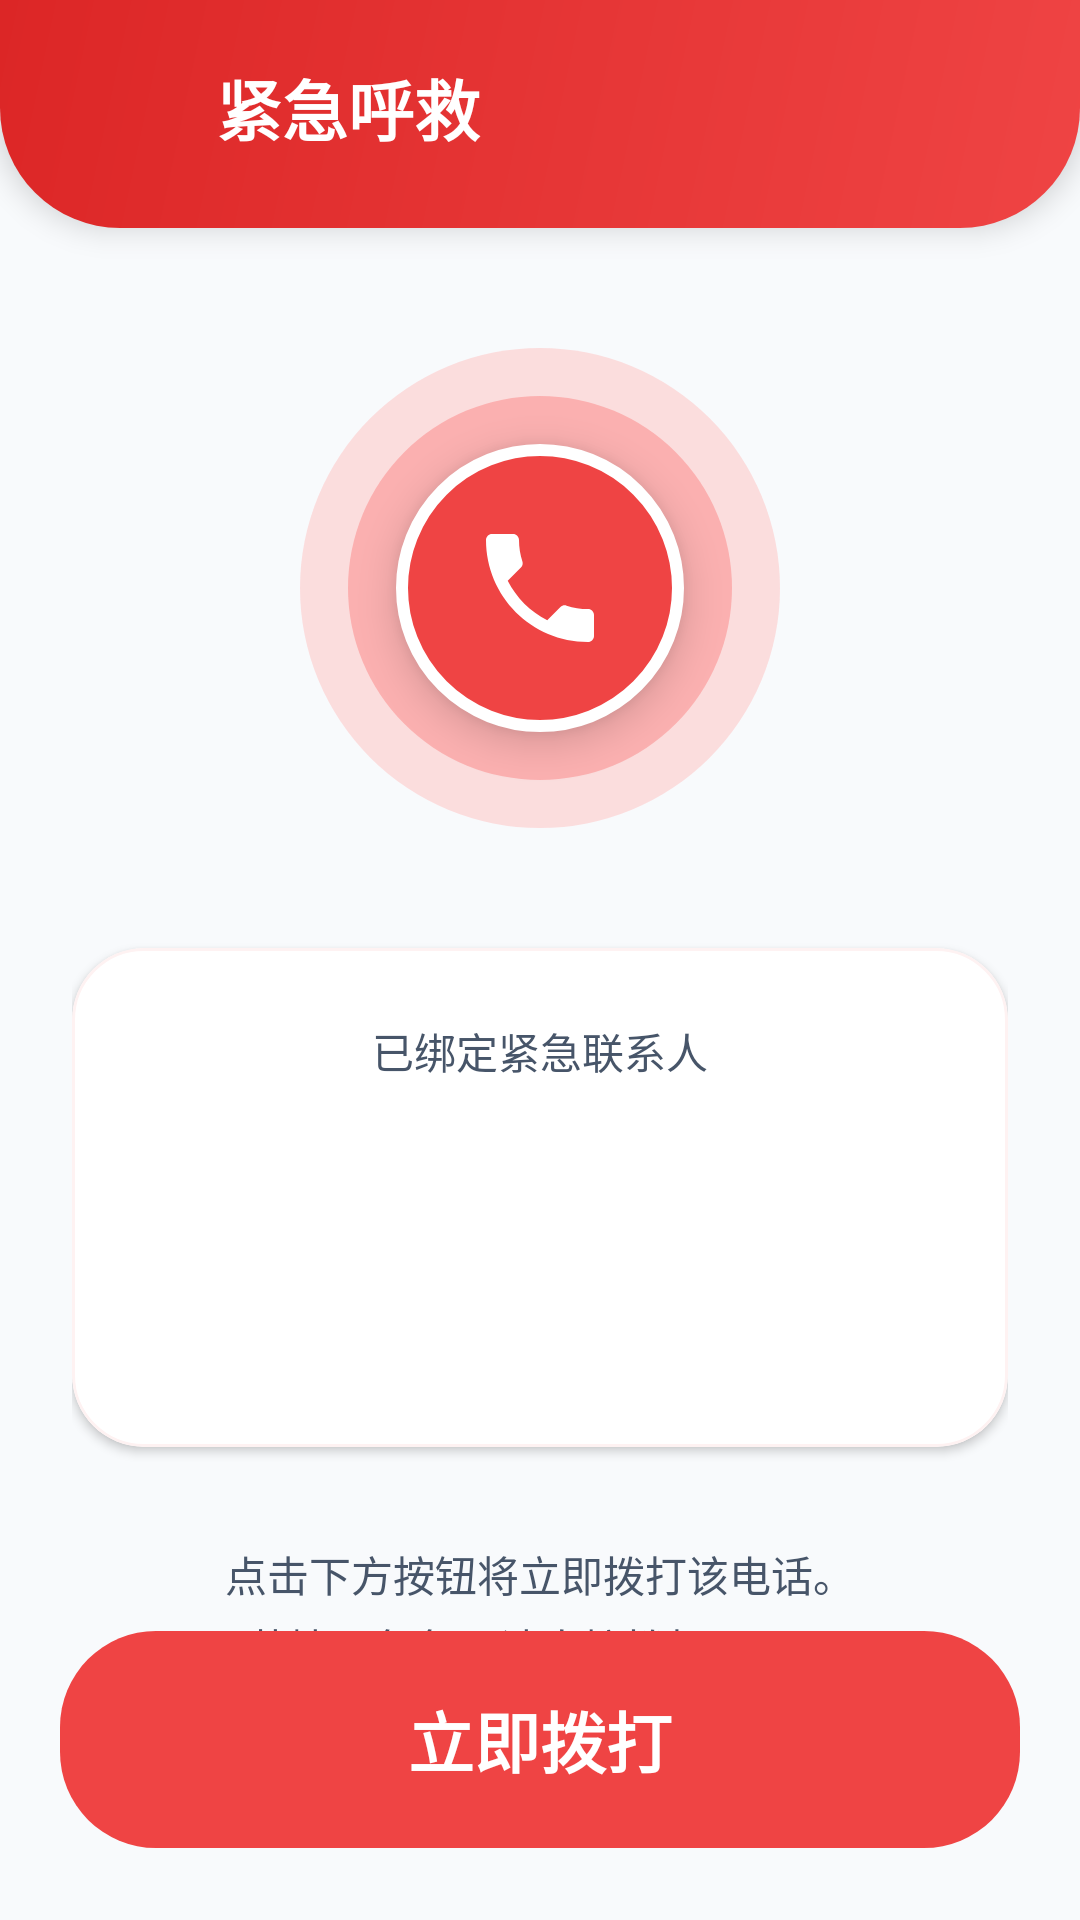

Icons on this 1080*1920 Android screen, each with its box as (x1=x1, y1=y1, x2=x2, y2=y2):
紧急呼叫图标: (x1=486, y1=534, x2=594, y2=642)
